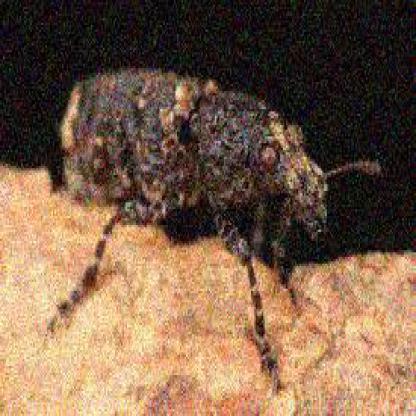ash weevil: (51, 65, 376, 389)
